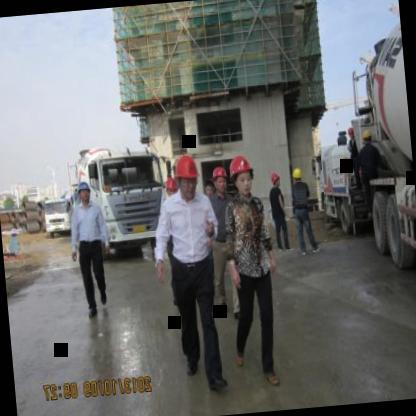helmet: (172, 150, 204, 198), (228, 152, 258, 198), (212, 160, 232, 196), (75, 178, 92, 204), (267, 168, 284, 191), (361, 125, 374, 149), (291, 164, 304, 184)
